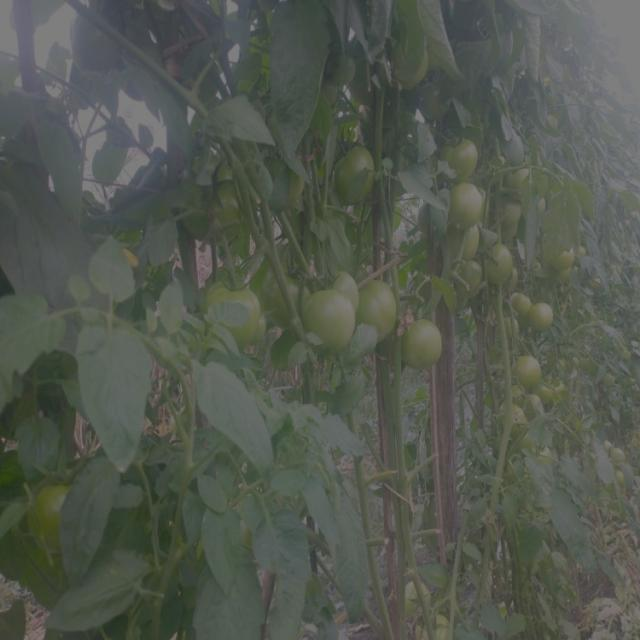tomato: (306, 267, 361, 351), (205, 280, 268, 348), (182, 176, 242, 240), (32, 484, 81, 556), (326, 139, 378, 203), (72, 12, 123, 71), (433, 139, 481, 183), (404, 315, 444, 364), (368, 273, 395, 344), (391, 38, 426, 88), (447, 186, 486, 229), (272, 158, 308, 201), (273, 269, 297, 326), (455, 261, 485, 299), (489, 243, 514, 287), (424, 91, 456, 124), (418, 612, 455, 640), (334, 58, 360, 93), (447, 232, 482, 255), (515, 354, 543, 382), (407, 578, 432, 609), (501, 199, 523, 232), (533, 444, 558, 473), (533, 303, 559, 330), (530, 390, 555, 415), (514, 165, 536, 193), (505, 402, 525, 432), (548, 247, 574, 267), (501, 315, 519, 339), (511, 293, 529, 313), (614, 446, 627, 470), (505, 384, 524, 400), (604, 373, 619, 392), (558, 272, 574, 286), (540, 197, 548, 214), (579, 246, 587, 259)
